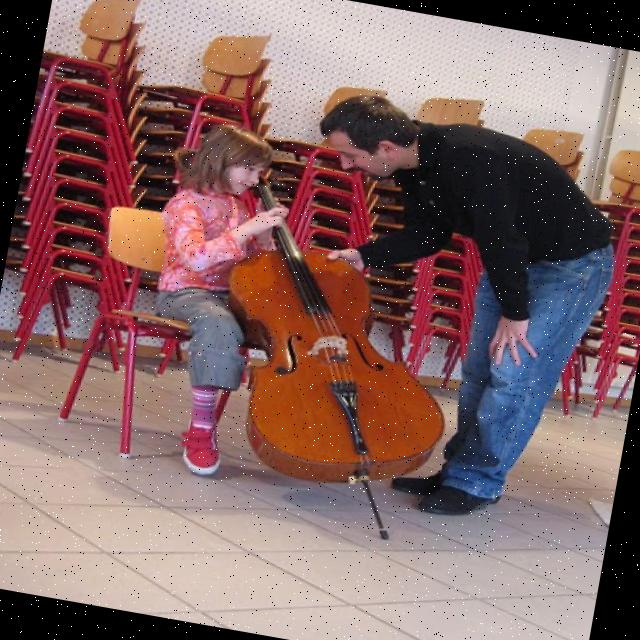cello: (196, 175, 482, 502)
